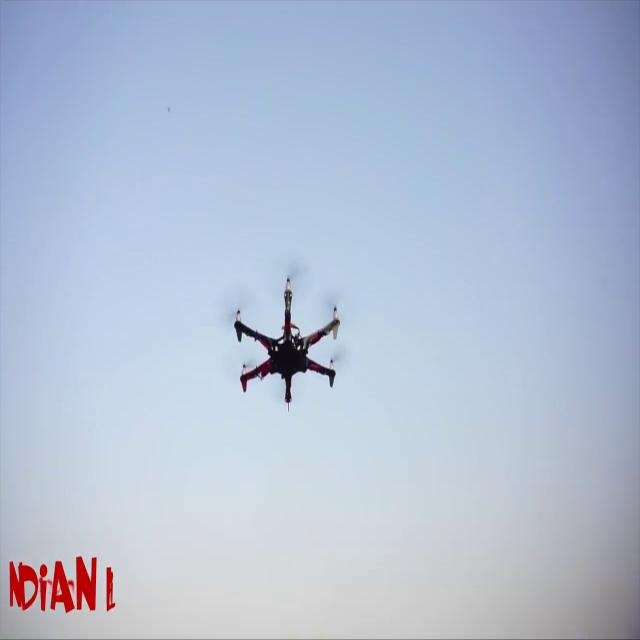drone: (210, 263, 352, 424)
